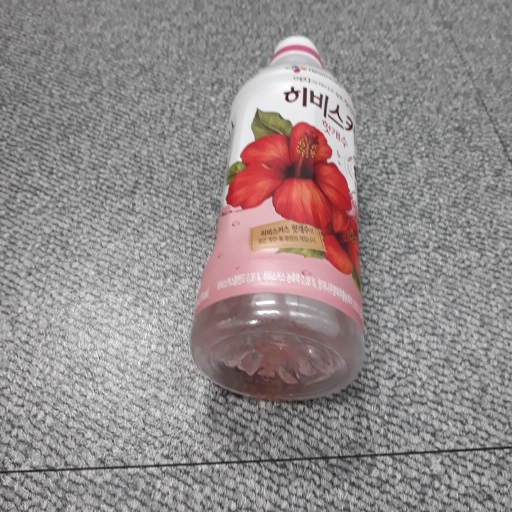Plastic_0: (193, 33, 368, 404)
